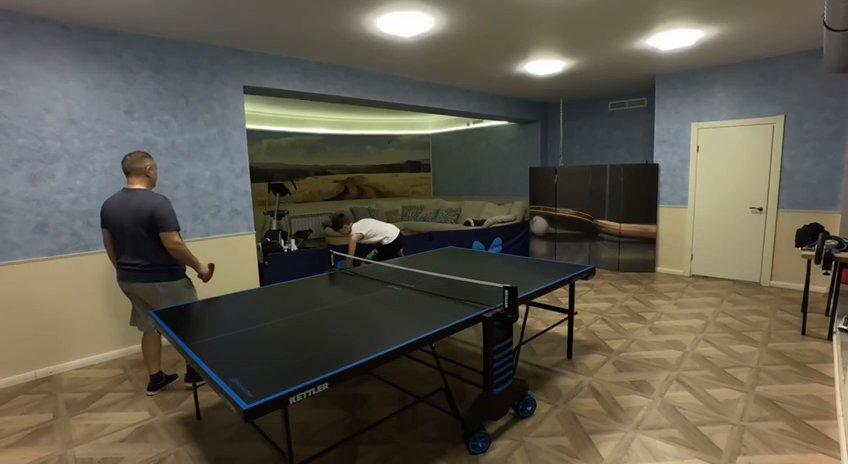Net: (327, 251, 515, 308)
Player1: (331, 213, 407, 268)
Player2: (101, 151, 213, 311)
Table: (149, 247, 594, 409)
